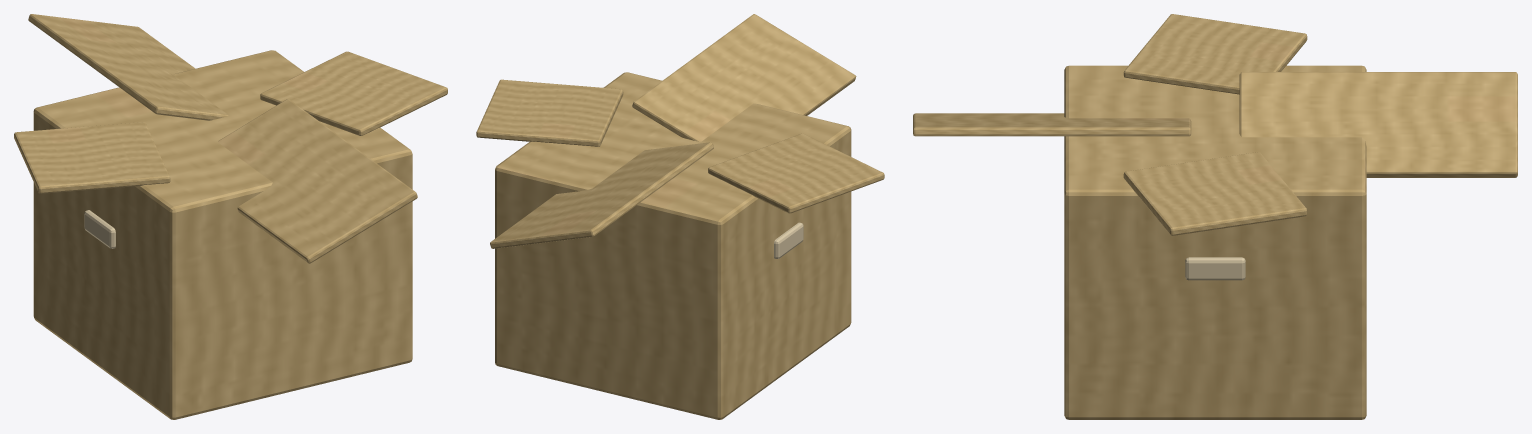
Rendered from crate.glb.
3 views of the same model, side by side, from view 1: azimuth 30°, elevation 25°; view 2: azimuth 150°, elevation 25°; view 3: azimuth 270°, elevation 25° (orthographic). The views are drawn at different scales.
Visible parts, largest first — view 1: body.009, flap1, flap0, flap2, flap3, tape; view 2: body.009, flap1, flap0, flap2, flap3, tape; view 3: body.009, flap0, flap3, flap2, flap1, tape.
Boxes of the visible parts, left/top/right/bottom form: body.009: left=33, top=50, right=412, bottom=419; flap1: left=218, top=99, right=417, bottom=263; flap0: left=28, top=14, right=228, bottom=120; flap2: left=14, top=122, right=170, bottom=193; flap3: left=260, top=51, right=447, bottom=135; tape: left=84, top=210, right=115, bottom=248; body.009: left=495, top=72, right=851, bottom=419; flap1: left=632, top=14, right=856, bottom=141; flap0: left=490, top=142, right=713, bottom=248; flap2: left=708, top=133, right=884, bottom=213; flap3: left=476, top=79, right=623, bottom=146; tape: left=774, top=222, right=803, bottom=258; body.009: left=1064, top=65, right=1366, bottom=419; flap0: left=1239, top=72, right=1517, bottom=177; flap3: left=1123, top=152, right=1307, bottom=235; flap2: left=1123, top=14, right=1307, bottom=94; flap1: left=913, top=113, right=1191, bottom=136; tape: left=1185, top=257, right=1245, bottom=280.
Size of the model in its own units: 0.8431 by 0.4703 by 1.
2 materials, 1 textured.
